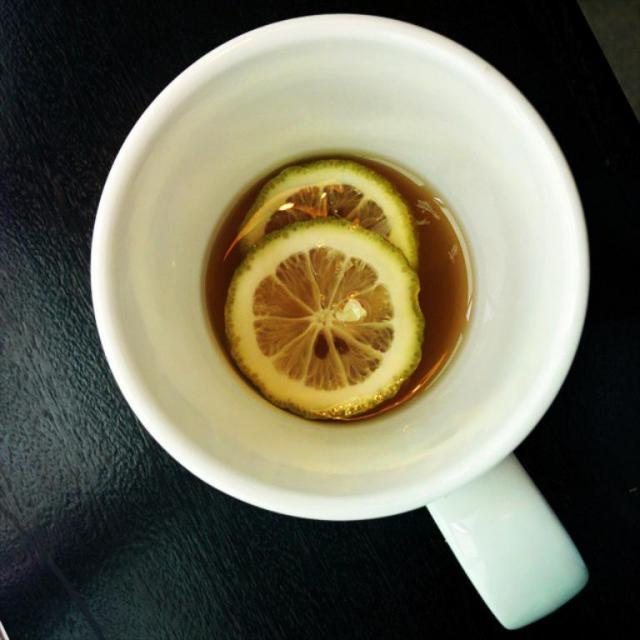Tea: (198, 148, 475, 422)
